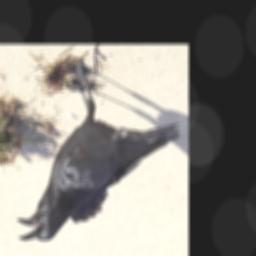Crow: (16, 54, 181, 242)
